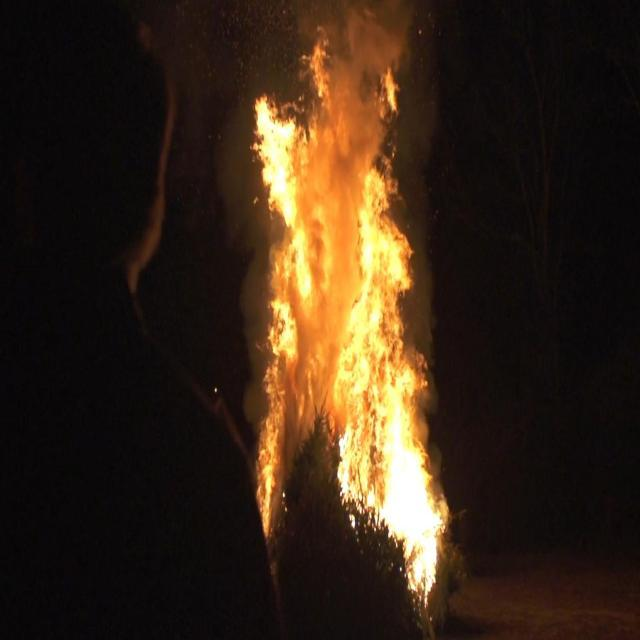Fire: (251, 9, 451, 616)
